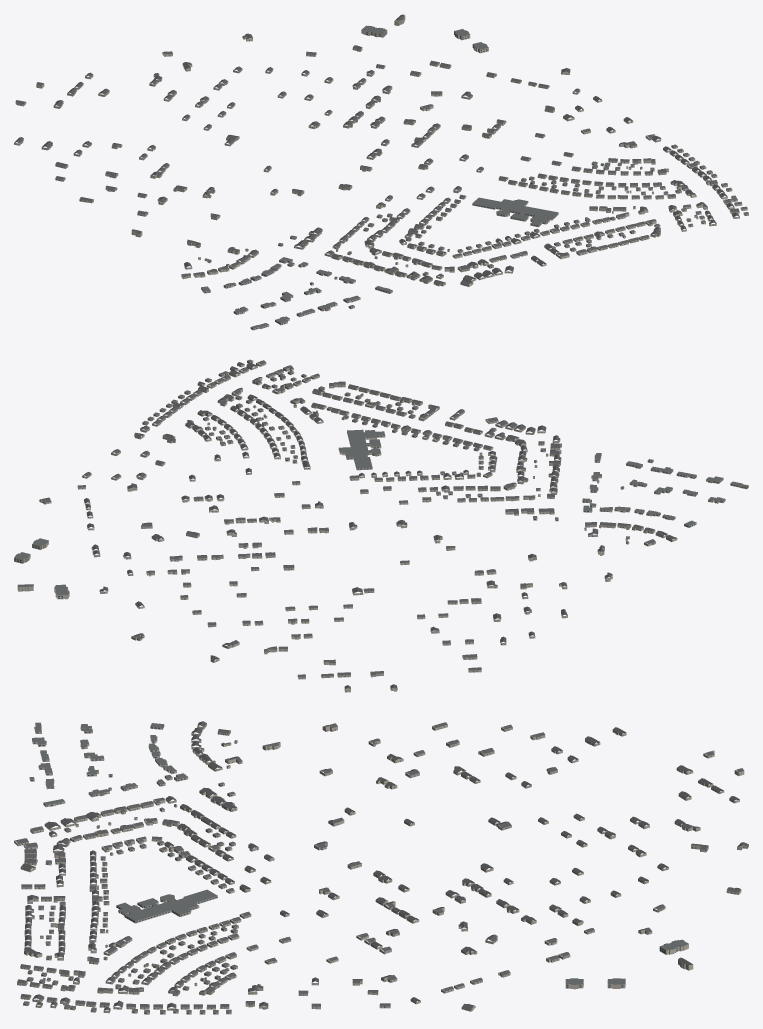
3 renders of one model, top to bottom at view 1: azimuth 30°, elevation 25°; view 2: azimuth 150°, elevation 25°; view 3: azimuth 270°, elevation 25°, orthographic. The views are drawn at different scales.
Parts seen in each view (by area): view 1: Buildings (0, -2) Roof shingles, Buildings (0, -2) Masonry brick, Buildings (0, -2) House siding, Buildings (0, -2) Roof membrane, Buildings (0, -2) Architectural tinted glass; view 2: Buildings (0, -2) Roof shingles, Buildings (0, -2) Masonry brick, Buildings (0, -2) Roof membrane, Buildings (0, -2) House siding, Buildings (0, -2) Architectural tinted glass; view 3: Buildings (0, -2) Roof shingles, Buildings (0, -2) Masonry brick, Buildings (0, -2) Roof membrane, Buildings (0, -2) House siding, Buildings (0, -2) Architectural tinted glass, Buildings (0, -2) Metal coping.
Part boxes in pixels (left/top/right/bottom): Buildings (0, -2) Roof shingles: left=14, top=14, right=747, bottom=284; Buildings (0, -2) Masonry brick: left=14, top=16, right=748, bottom=330; Buildings (0, -2) House siding: left=41, top=46, right=739, bottom=281; Buildings (0, -2) Roof membrane: left=198, top=25, right=748, bottom=328; Buildings (0, -2) Architectural tinted glass: left=14, top=22, right=746, bottom=329; Buildings (0, -2) Roof shingles: left=18, top=360, right=676, bottom=688; Buildings (0, -2) Masonry brick: left=14, top=361, right=748, bottom=692; Buildings (0, -2) Roof membrane: left=14, top=359, right=748, bottom=595; Buildings (0, -2) House siding: left=87, top=362, right=667, bottom=677; Buildings (0, -2) Architectural tinted glass: left=14, top=361, right=747, bottom=691; Buildings (0, -2) Roof shingles: left=15, top=721, right=748, bottom=1010; Buildings (0, -2) Masonry brick: left=14, top=723, right=748, bottom=1014; Buildings (0, -2) Roof membrane: left=23, top=722, right=688, bottom=1012; Buildings (0, -2) House siding: left=17, top=727, right=713, bottom=1013; Buildings (0, -2) Architectural tinted glass: left=16, top=724, right=747, bottom=1013; Buildings (0, -2) Metal coping: left=24, top=722, right=686, bottom=1012.
Size of the model in its own units: 946 by 11.96 by 1017.
